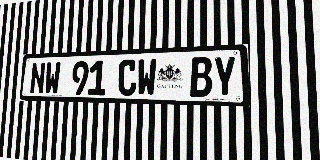1: (88, 60, 106, 95)
9: (71, 61, 89, 95)
B: (190, 57, 212, 97)
C: (118, 59, 137, 96)
N: (29, 62, 46, 94)
W: (137, 59, 157, 96), (44, 62, 61, 95)
Y: (213, 56, 237, 97)
